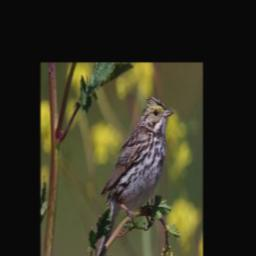Sparrow: (93, 93, 175, 256)
